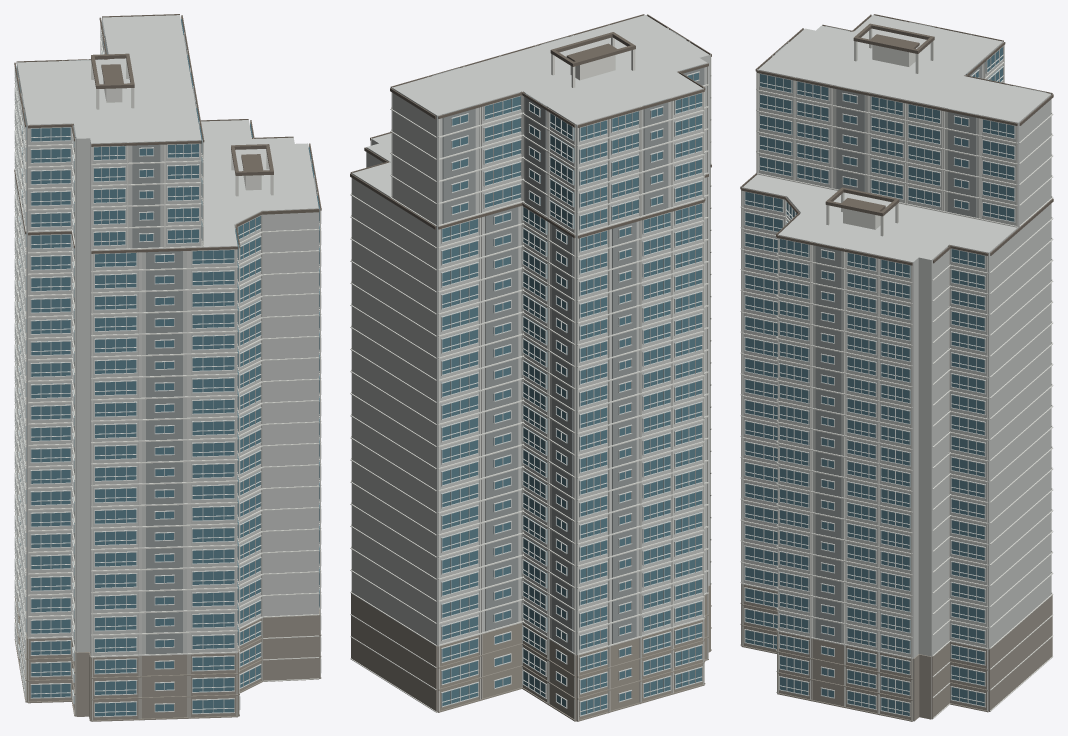
The model's file is bespoke-banpo-xi-126.glb.
3 renders of one model, left to right at view 1: azimuth 30°, elevation 25°; view 2: azimuth 150°, elevation 25°; view 3: azimuth 270°, elevation 25°, orthographic. The views are drawn at different scales.
Visible parts, largest first — view 1: editable_BX126_pale_silver_limestone, editable_BX126_blue_grey_broad_glazing, editable_BX126_white_window_frames, editable_BX126_ivory_course_bands, editable_BX126_grey_service_core, editable_BX126_warm_ground_stone, editable_BX126_dark_coping; view 2: editable_BX126_pale_silver_limestone, editable_BX126_blue_grey_broad_glazing, editable_BX126_white_window_frames, editable_BX126_ivory_course_bands, editable_BX126_grey_service_core, editable_BX126_warm_ground_stone, editable_BX126_dark_coping; view 3: editable_BX126_pale_silver_limestone, editable_BX126_blue_grey_broad_glazing, editable_BX126_white_window_frames, editable_BX126_ivory_course_bands, editable_BX126_grey_service_core, editable_BX126_warm_ground_stone, editable_BX126_dark_coping.
Part boxes in pixels (<box>): editable_BX126_pale_silver_limestone: <box>17,15,318,715</box>; editable_BX126_blue_grey_broad_glazing: <box>16,19,319,716</box>; editable_BX126_white_window_frames: <box>14,29,321,717</box>; editable_BX126_ivory_course_bands: <box>14,15,321,721</box>; editable_BX126_grey_service_core: <box>19,20,316,654</box>; editable_BX126_warm_ground_stone: <box>14,596,321,721</box>; editable_BX126_dark_coping: <box>14,14,321,253</box>; editable_BX126_pale_silver_limestone: <box>352,15,709,711</box>; editable_BX126_blue_grey_broad_glazing: <box>441,72,701,715</box>; editable_BX126_white_window_frames: <box>441,71,702,716</box>; editable_BX126_ivory_course_bands: <box>350,14,711,721</box>; editable_BX126_grey_service_core: <box>432,29,704,651</box>; editable_BX126_warm_ground_stone: <box>351,584,711,721</box>; editable_BX126_dark_coping: <box>350,14,711,238</box>; editable_BX126_pale_silver_limestone: <box>742,15,1051,720</box>; editable_BX126_blue_grey_broad_glazing: <box>745,47,1014,715</box>; editable_BX126_white_window_frames: <box>744,45,1015,716</box>; editable_BX126_ivory_course_bands: <box>740,14,1053,721</box>; editable_BX126_grey_service_core: <box>774,22,1046,643</box>; editable_BX126_warm_ground_stone: <box>740,584,1052,721</box>; editable_BX126_dark_coping: <box>740,14,1053,265</box>.
Bounding box in the file's own units: 40.11 × 75.7 × 36.64.
